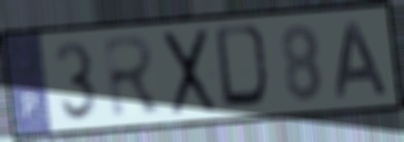3: (53, 39, 101, 123)
8: (279, 21, 326, 104)
A: (334, 18, 392, 101)
D: (212, 21, 276, 112)
R: (100, 33, 167, 122)
X: (161, 25, 220, 120)
